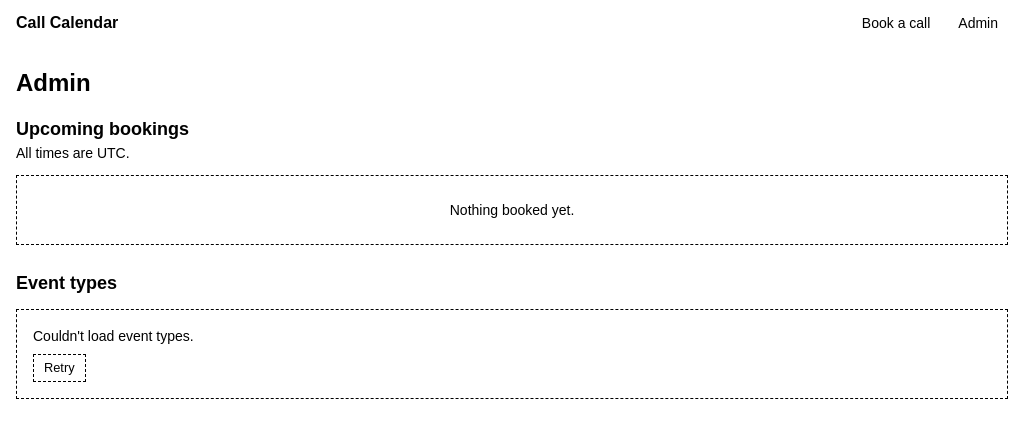
Test: admin event types panel › shows an error with Retry when loading fails, and loads again on Retry
Check: the message shows "Couldn't load event types.", box [33,328,194,344]
What coordinates should you click on to do the following:
click the button "Retry"
I would click on:
 (59, 368)
Its box is [33,354,86,382].
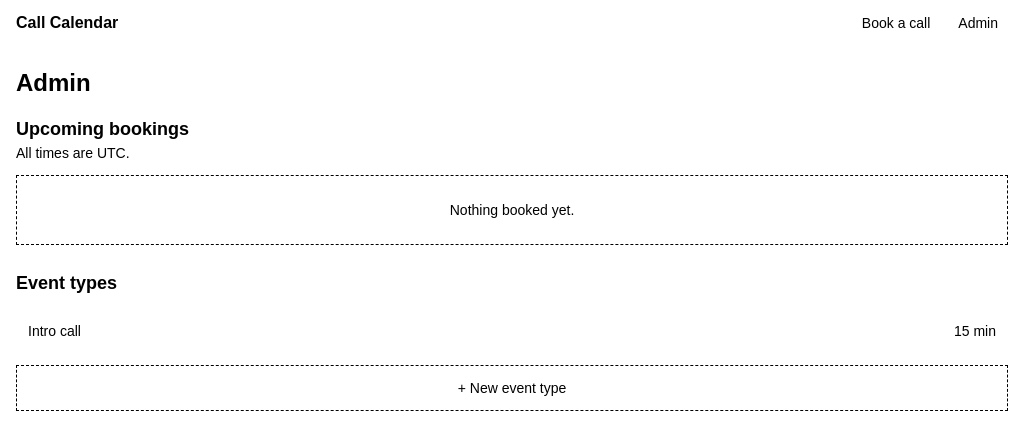
Check: the text "Intro call" is shown, box [28,321,81,341]
Check: the message "Couldn't load event types. Retry" is gone
